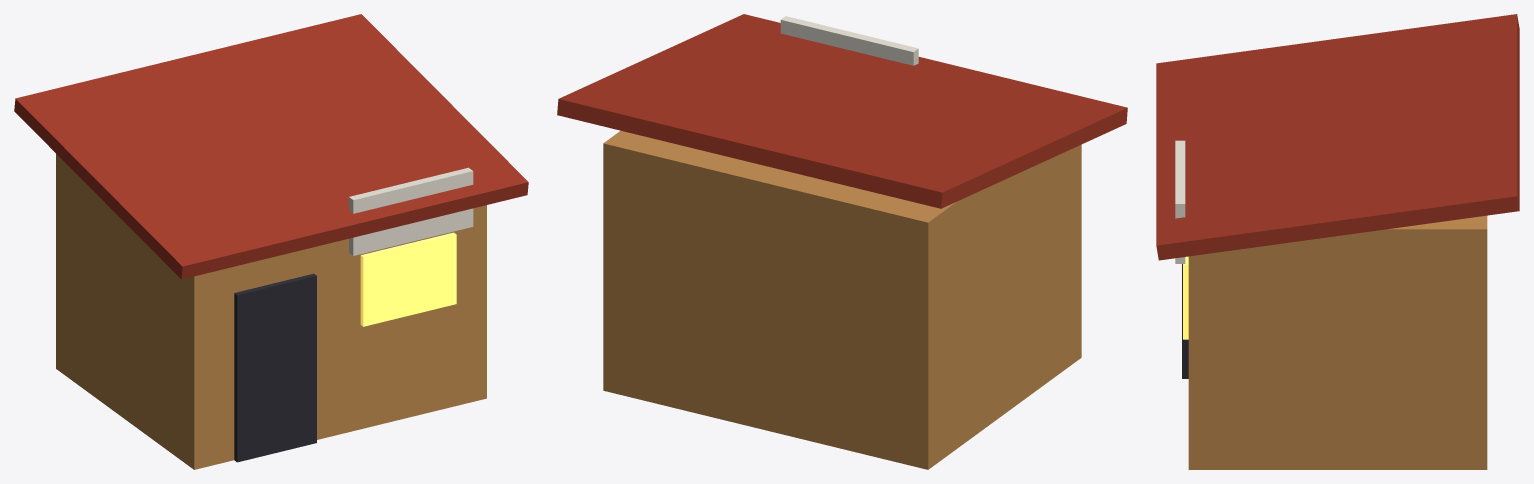
Rendered from fish_shack.glb.
3 views of the same model, side by side, from view 1: azimuth 30°, elevation 25°; view 2: azimuth 150°, elevation 25°; view 3: azimuth 270°, elevation 25° (orthographic). The views are drawn at different scales.
Parts seen in each view (by area): view 1: fish_shack; view 2: fish_shack; view 3: fish_shack.
Part boxes in pixels (x1,y1,x2,y2): fish_shack: (14,14,528,469); fish_shack: (557,14,1127,469); fish_shack: (1156,14,1519,469).
Bounding box in the file's own units: 2.6 × 1.91 × 2.19.
